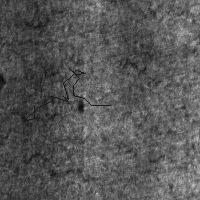crazing: (7, 132, 165, 184), (23, 68, 110, 121)
